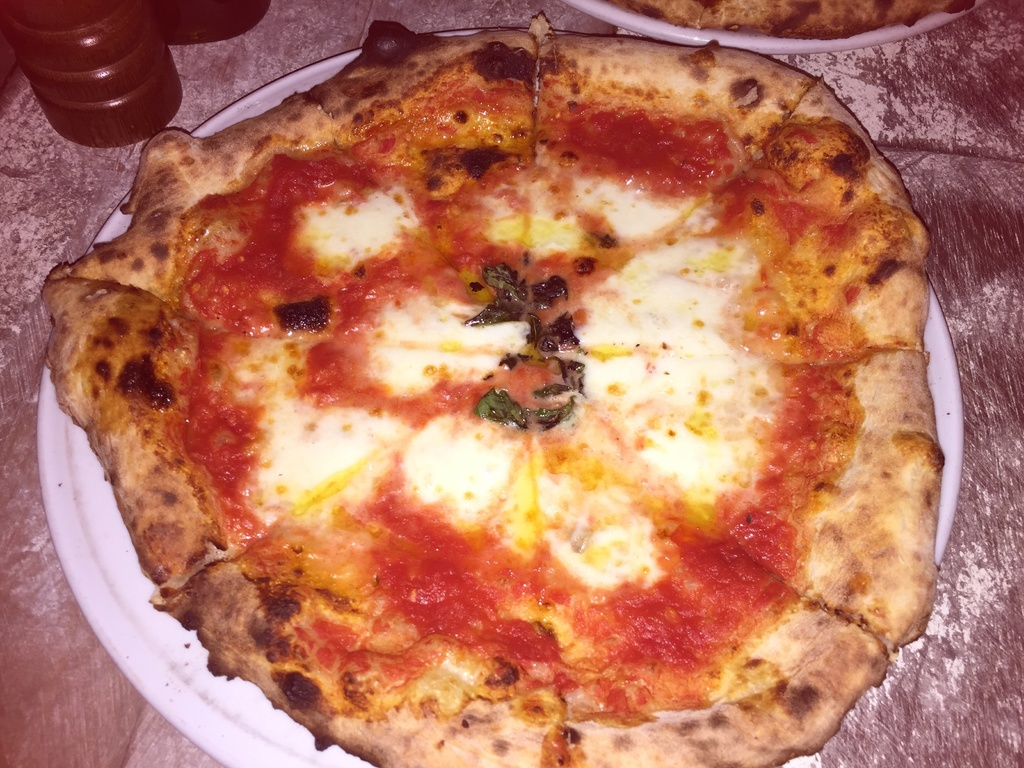Pizza: (38, 13, 938, 767)
